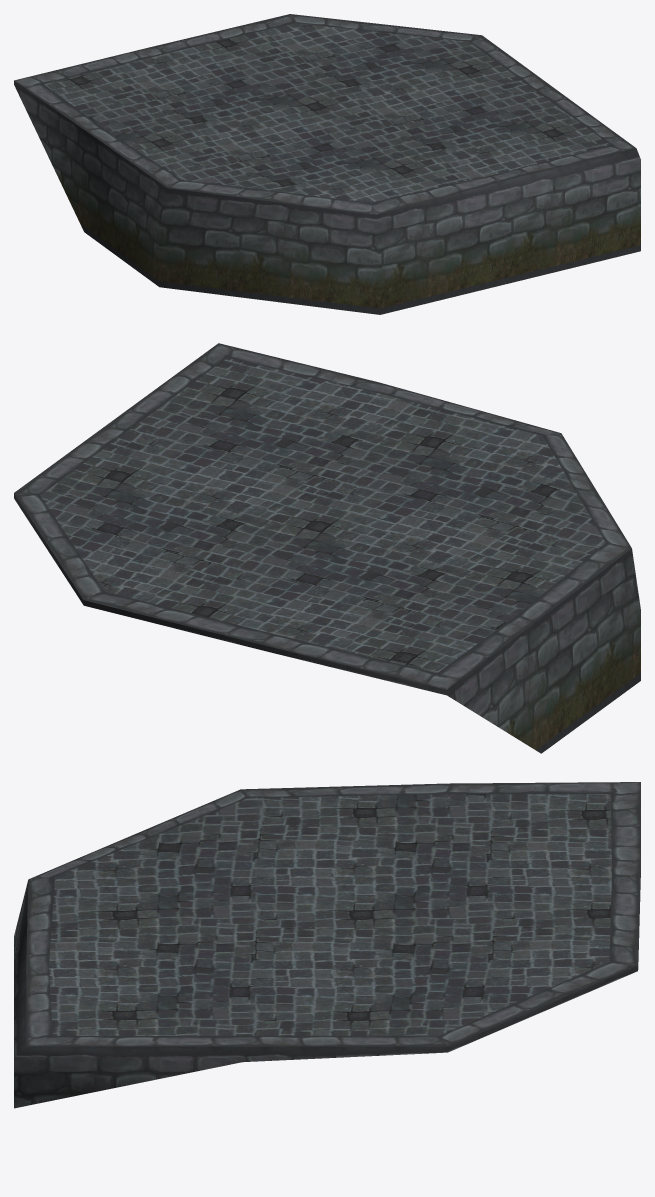
Rendered from menu_terrain_towncenterstone04.fbx.
3 renders of one model, top to bottom at view 1: azimuth 30°, elevation 25°; view 2: azimuth 150°, elevation 25°; view 3: azimuth 270°, elevation 25°, orthographic. The views are drawn at different scales.
Visible parts, largest first — view 1: menu_terrain_towncenterstone04-0; view 2: menu_terrain_towncenterstone04-0; view 3: menu_terrain_towncenterstone04-0.
Boxes of the visible parts, x1,y1,x2,y2 form: menu_terrain_towncenterstone04-0: [14, 14, 640, 314]; menu_terrain_towncenterstone04-0: [14, 343, 640, 753]; menu_terrain_towncenterstone04-0: [14, 782, 640, 1108].
Size of the model in its own units: 12.32 by 2.95 by 12.32.
